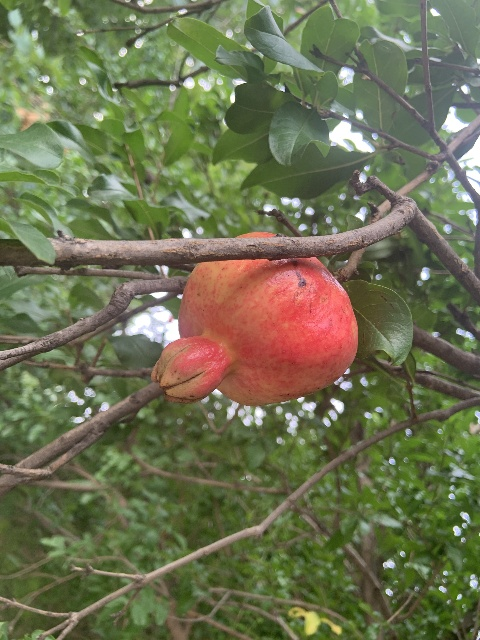ripe: (149, 231, 357, 406)
